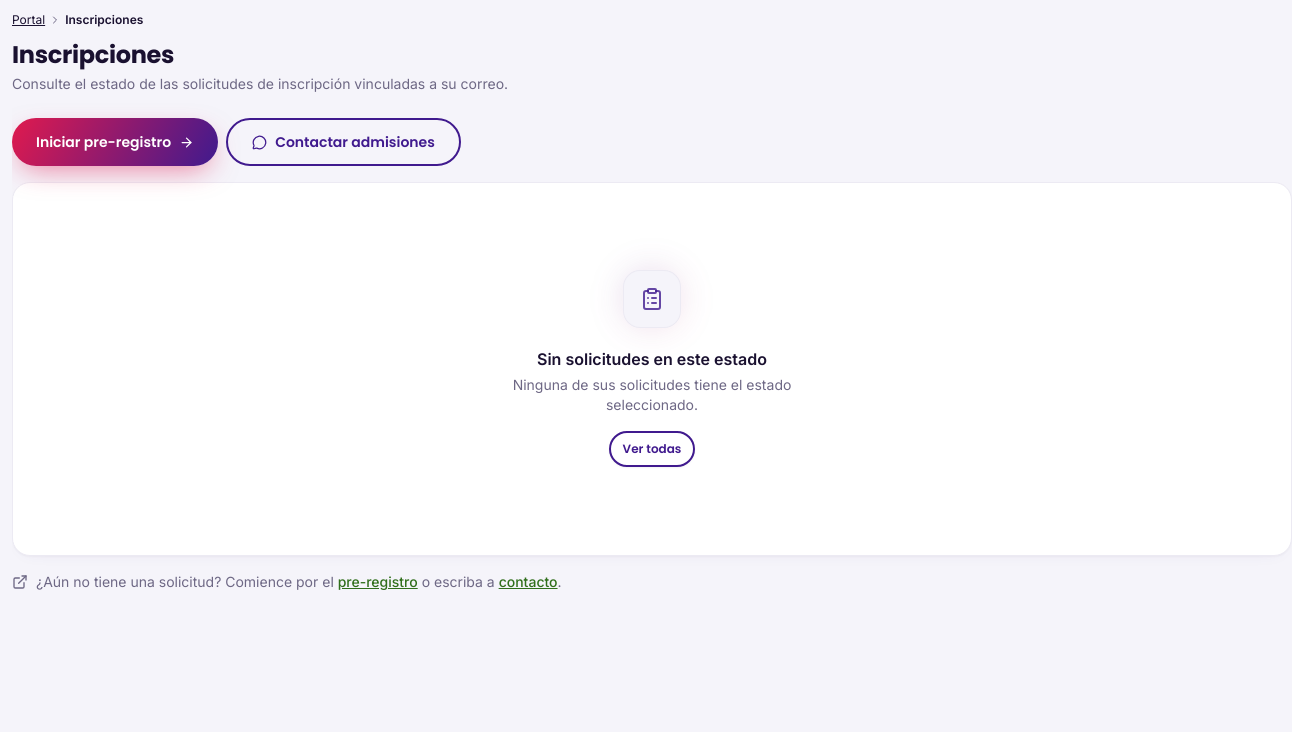
Scenario: InscripcionesPage › an estado with no solicitudes offers "Ver todas"
The width and height of the screenshot is (1292, 732).
Expected: the heading "Sin solicitudes en este estado" is shown, [537, 347, 767, 371]
What coordinates should you click on to do the following:
click the button "Ver todas"
I would click on:
 (652, 449)
Its box is [609, 431, 695, 467].
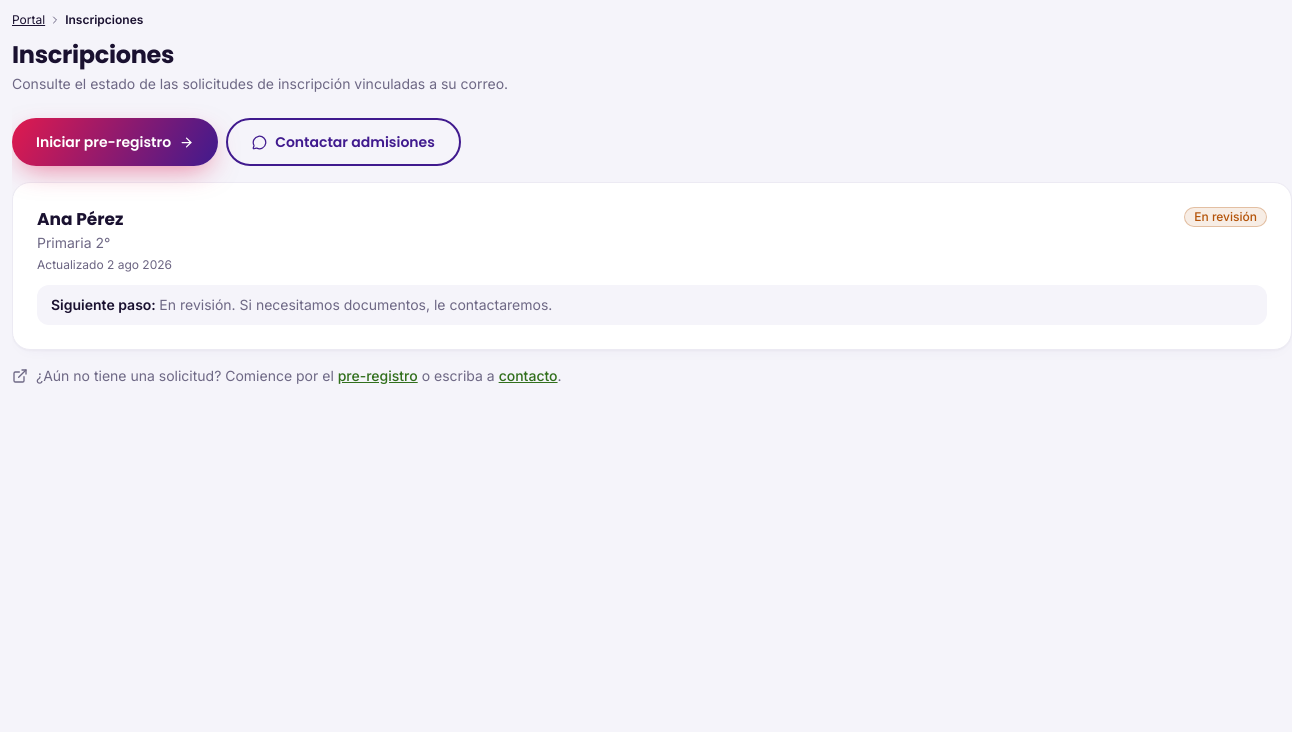
Expected: the text "Ana Pérez" is shown, [37, 207, 123, 231]
